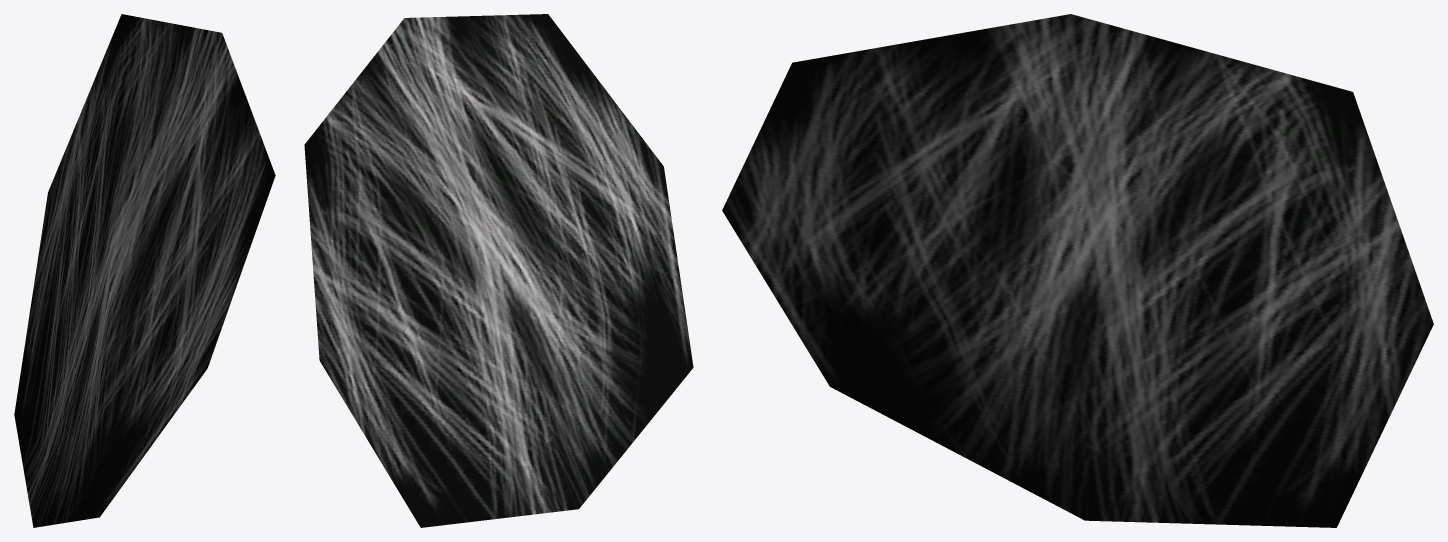
Rendered from MIRKWOOD_SPIDERWEB_COVERS10.fbx.
3 views of the same model, side by side, from view 1: azimuth 30°, elevation 25°; view 2: azimuth 150°, elevation 25°; view 3: azimuth 270°, elevation 25° (orthographic). The views are drawn at different scales.
Parts seen in each view (by area): view 1: MIRKWOOD_SPIDERWEB_COVERS10; view 2: MIRKWOOD_SPIDERWEB_COVERS10; view 3: MIRKWOOD_SPIDERWEB_COVERS10.
Part boxes in pixels (left/top/right/bottom): MIRKWOOD_SPIDERWEB_COVERS10: left=14, top=14, right=275, bottom=527; MIRKWOOD_SPIDERWEB_COVERS10: left=304, top=14, right=693, bottom=527; MIRKWOOD_SPIDERWEB_COVERS10: left=722, top=14, right=1433, bottom=527.
Bounding box in the file's own units: 28733 × 59366 × 60663.
Materials: 1 (1 with a texture image).
